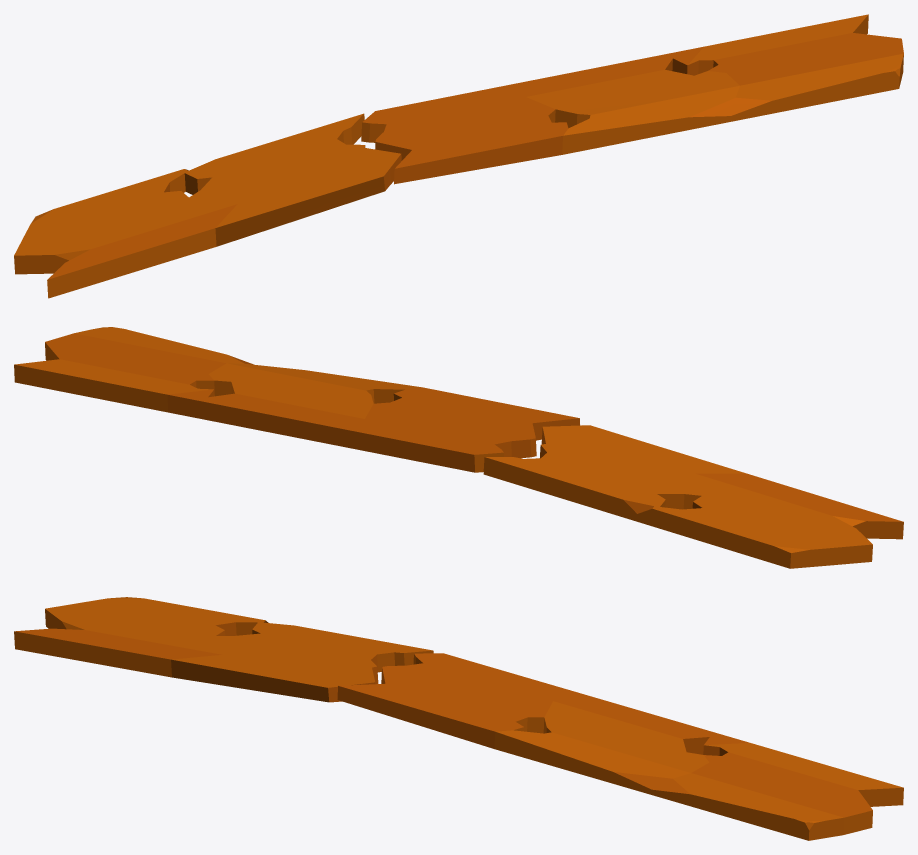
The model's file is Rotten and broken wood_2.fbx.
3 views of the same model, one above another, from view 1: azimuth 30°, elevation 25°; view 2: azimuth 150°, elevation 25°; view 3: azimuth 330°, elevation 25° (orthographic). The views are drawn at different scales.
Visible parts, largest first — view 1: Cube.017, Cube.021; view 2: Cube.017, Cube.021; view 3: Cube.017, Cube.021.
Part boxes in pixels (box(x1,y1,x2,y2)): Cube.017: box(361, 14, 903, 184); Cube.021: box(14, 113, 401, 298); Cube.017: box(14, 327, 580, 472); Cube.021: box(483, 425, 903, 568); Cube.017: box(337, 653, 903, 840); Cube.021: box(14, 597, 433, 702).
Size of the model in its own units: 101 by 4.93 by 13.07.
